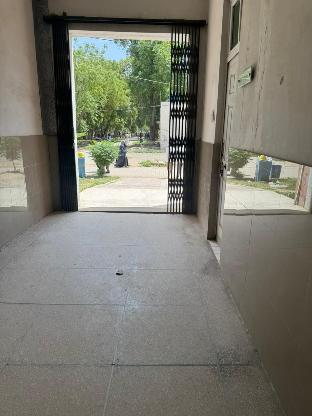door: (45, 11, 200, 223)
